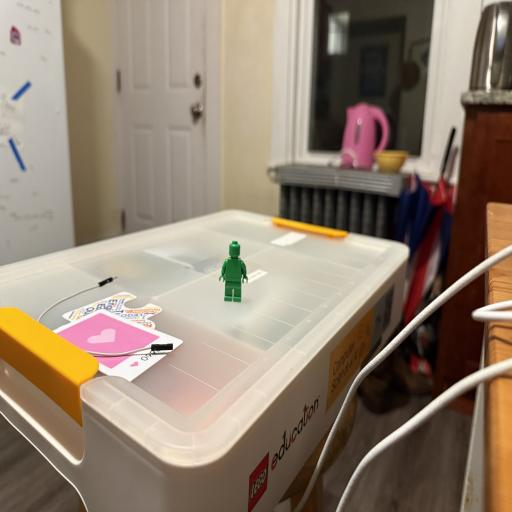Minifig: (219, 241, 247, 302)
